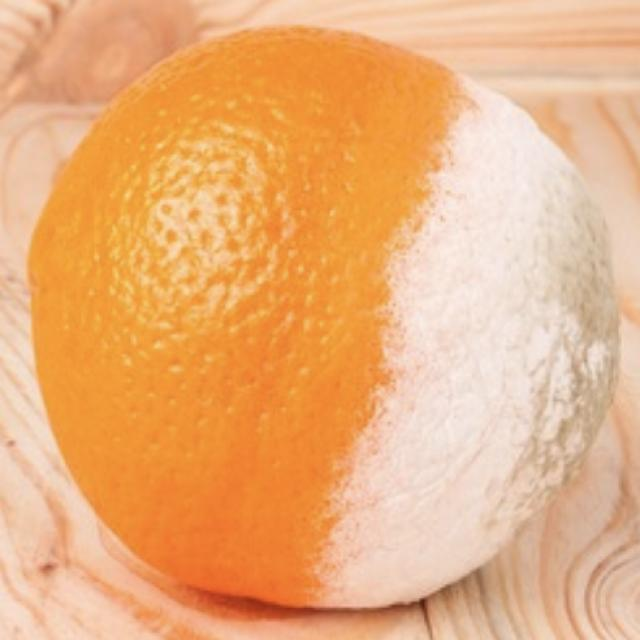rotten-orange: (32, 30, 622, 606)
